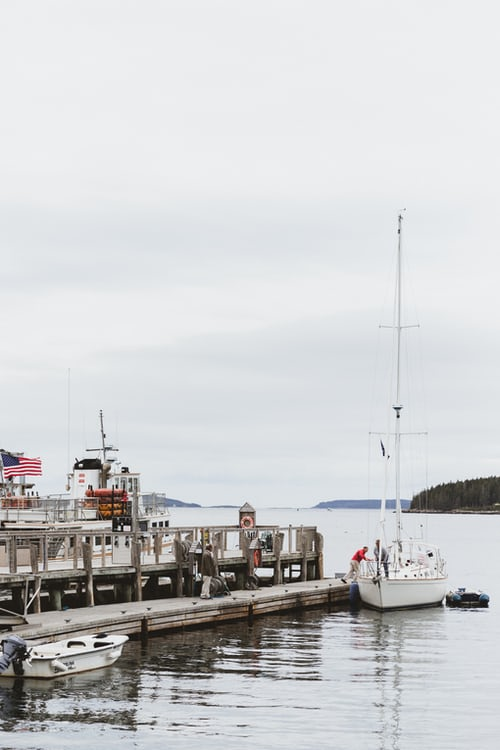yacht: (349, 181, 454, 614)
